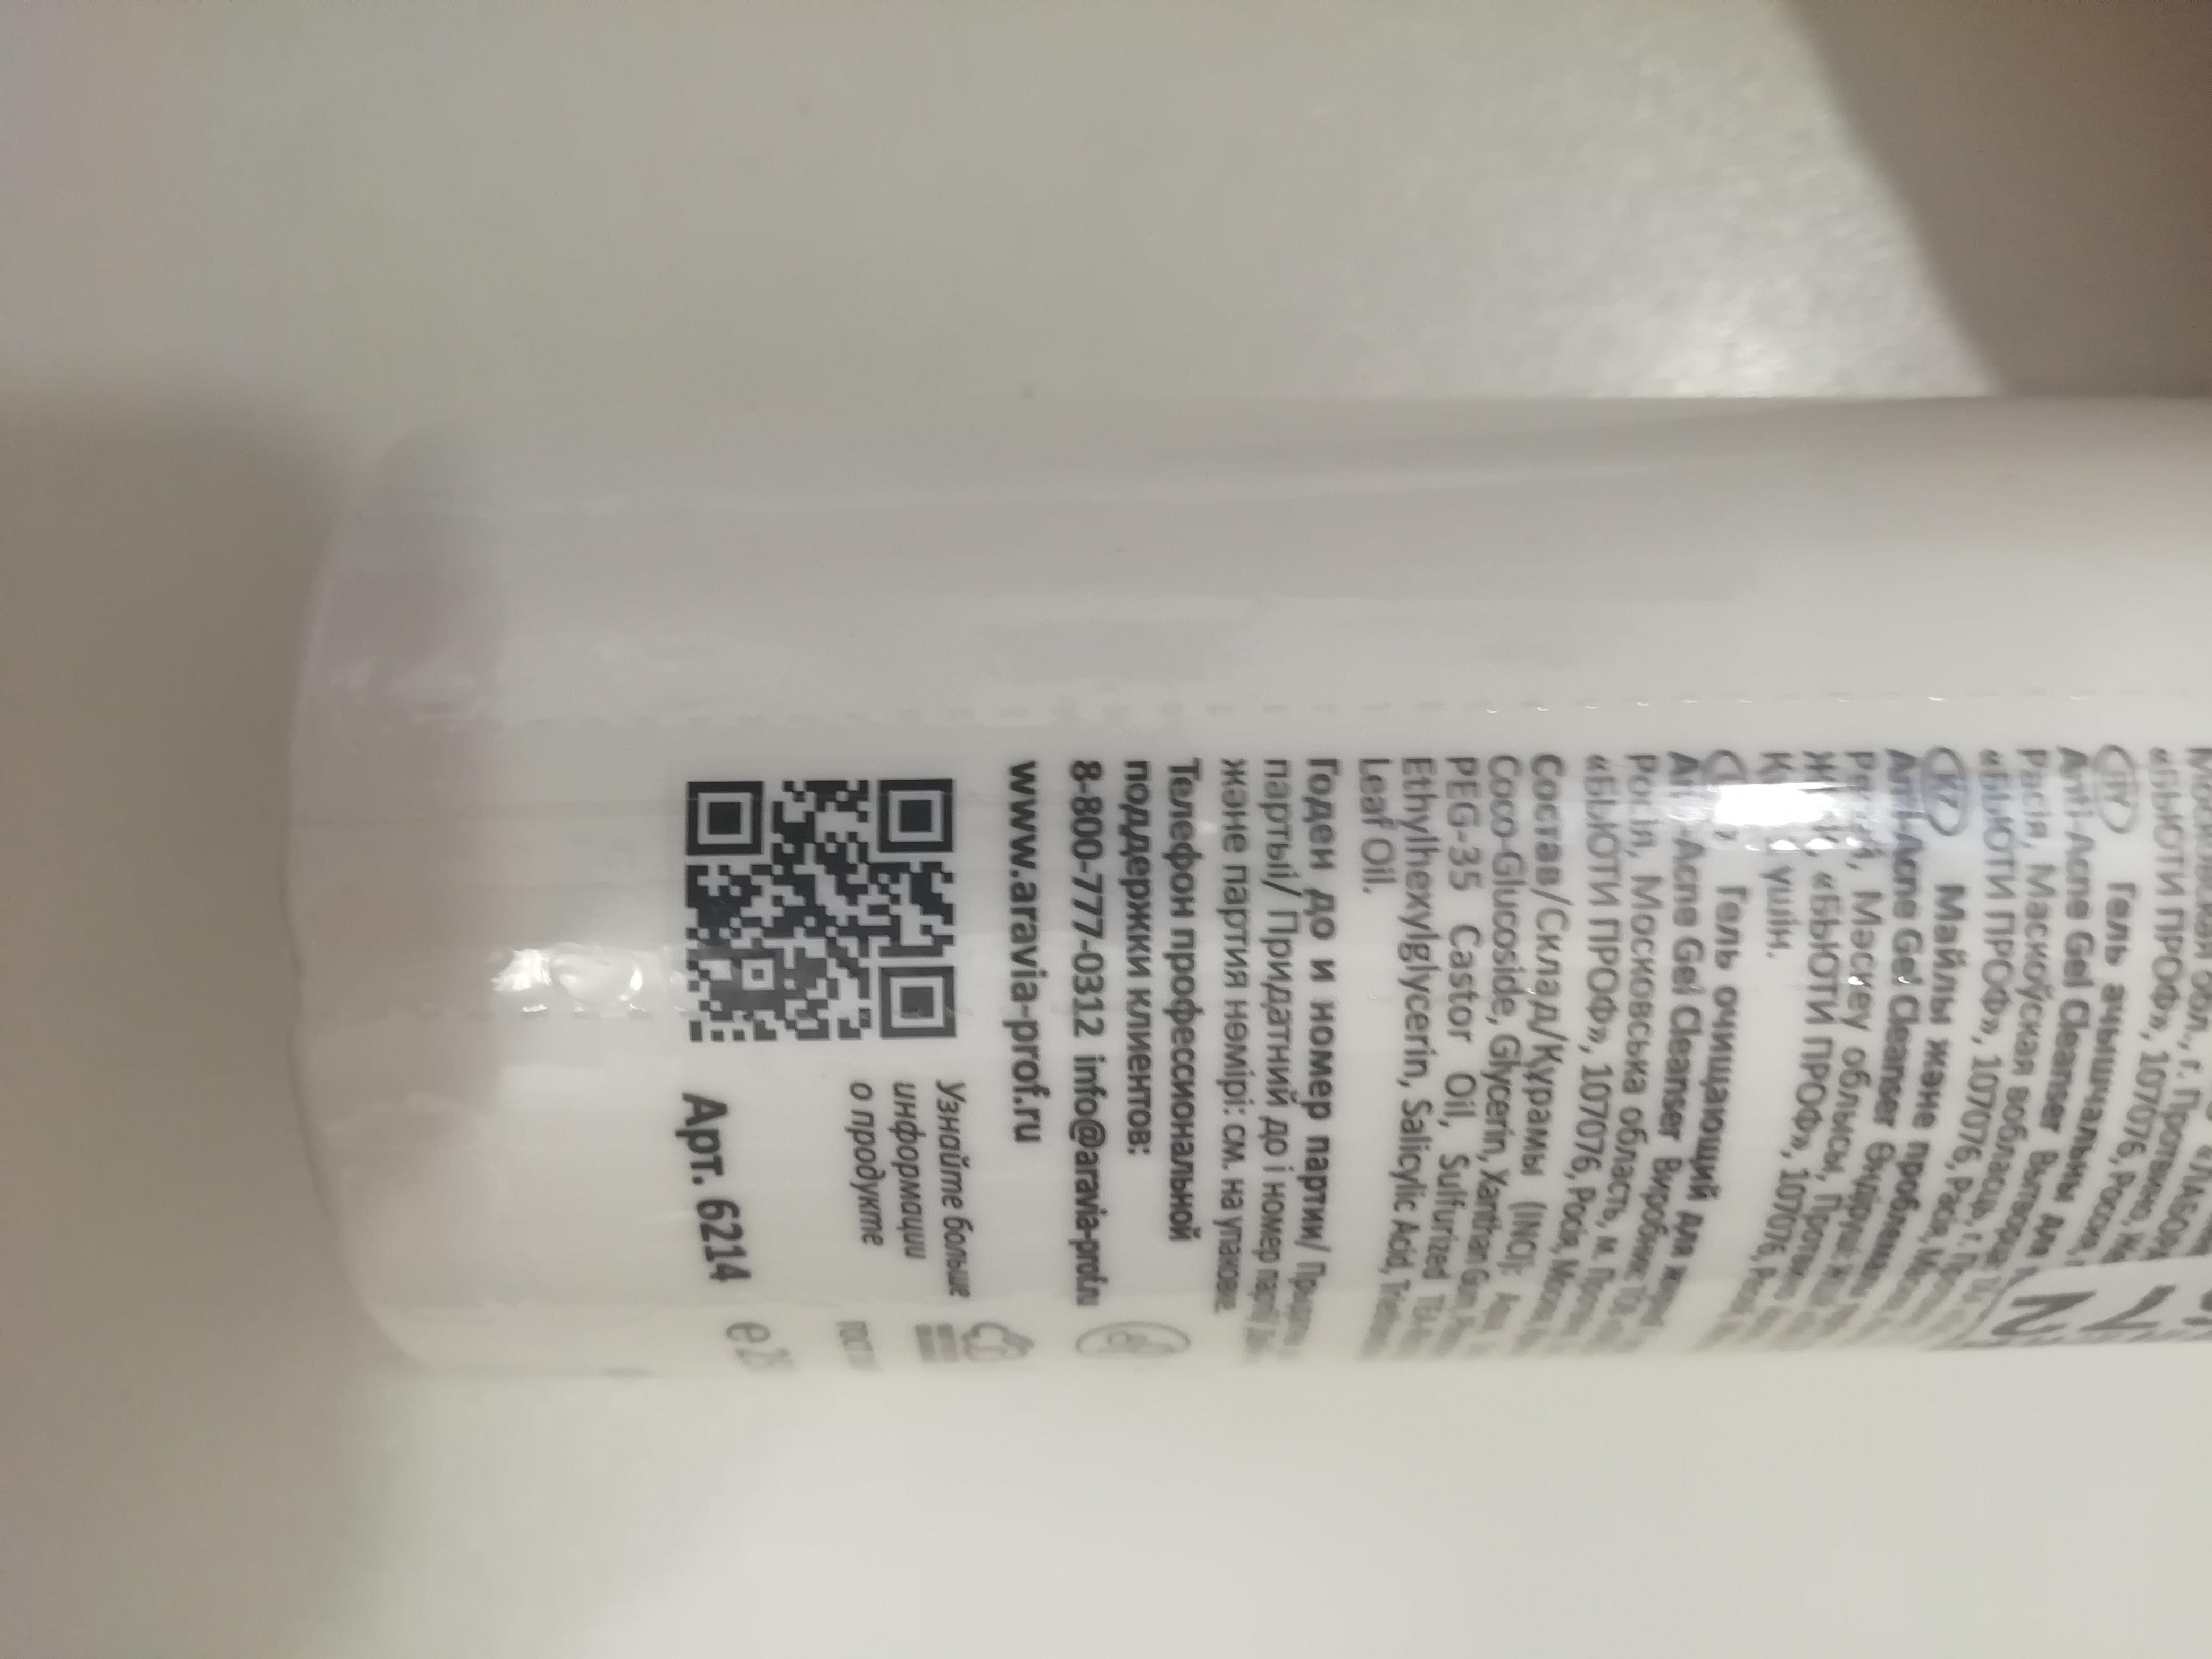qrcode: (681, 779, 960, 1047)
